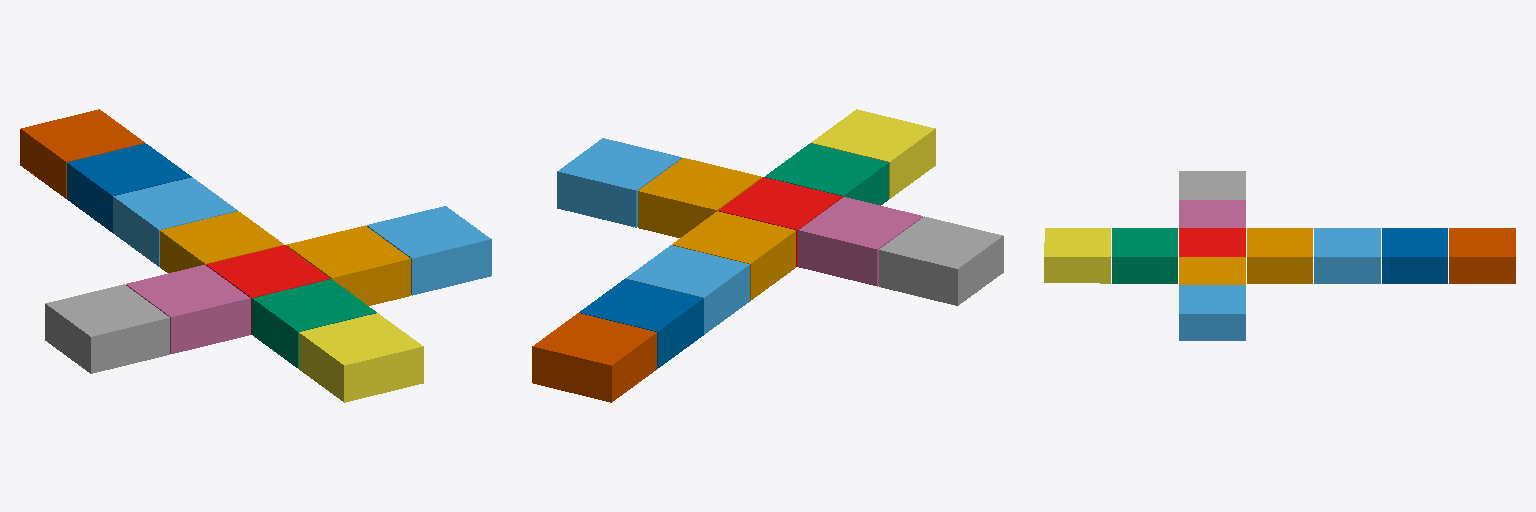
The robot description file, URDF, robot "rob":
<?xml version='1.0' encoding='UTF-8'?>
<robot name="rob">
  <link name="set1_arm1">
    <inertial>
      <origin xyz="0.0 0.34 0.0" rpy="0.0 0.0 0.0"/>
      <mass value="1.0"/>
      <inertia ixx="0.0" ixy="0.0" ixz="0.0" iyy="0.0" iyz="0.0" izz="0.0"/>
    </inertial>
    <visual>
      <geometry>
        <box size="0.67 0.67 0.3 "/>
      </geometry>
      <origin xyz="0.0 0.34 0.0" rpy="0.0 0.0 0.0"/>
    </visual>
    <collision>
      <geometry>
        <box size="0.67 0.67 0.3 "/>
      </geometry>
      <origin xyz="0.0 0.34 0.0" rpy="0.0 0.0 0.0"/>
    </collision>
  </link>
  <link name="set1_arm2">
    <inertial>
      <origin xyz="0.0 0.34 0.0" rpy="0.0 0.0 0.0"/>
      <mass value="1.0"/>
      <inertia ixx="0.0" ixy="0.0" ixz="0.0" iyy="0.0" iyz="0.0" izz="0.0"/>
    </inertial>
    <visual>
      <geometry>
        <box size="0.67 0.67 0.3 "/>
      </geometry>
      <origin xyz="0.0 0.34 0.0" rpy="0.0 0.0 0.0"/>
    </visual>
    <collision>
      <geometry>
        <box size="0.67 0.67 0.3 "/>
      </geometry>
      <origin xyz="0.0 0.34 0.0" rpy="0.0 0.0 0.0"/>
    </collision>
  </link>
  <link name="set2_arm1">
    <inertial>
      <origin xyz="0.0 0.34 0.0" rpy="0.0 0.0 0.0"/>
      <mass value="1.0"/>
      <inertia ixx="0.0" ixy="0.0" ixz="0.0" iyy="0.0" iyz="0.0" izz="0.0"/>
    </inertial>
    <visual>
      <geometry>
        <box size="0.67 0.67 0.3 "/>
      </geometry>
      <origin xyz="0.0 0.34 0.0" rpy="0.0 0.0 0.0"/>
    </visual>
    <collision>
      <geometry>
        <box size="0.67 0.67 0.3 "/>
      </geometry>
      <origin xyz="0.0 0.34 0.0" rpy="0.0 0.0 0.0"/>
    </collision>
  </link>
  <link name="set2_arm2">
    <inertial>
      <origin xyz="0.0 0.34 0.0" rpy="0.0 0.0 0.0"/>
      <mass value="1.0"/>
      <inertia ixx="0.0" ixy="0.0" ixz="0.0" iyy="0.0" iyz="0.0" izz="0.0"/>
    </inertial>
    <visual>
      <geometry>
        <box size="0.67 0.67 0.3 "/>
      </geometry>
      <origin xyz="0.0 0.34 0.0" rpy="0.0 0.0 0.0"/>
    </visual>
    <collision>
      <geometry>
        <box size="0.67 0.67 0.3 "/>
      </geometry>
      <origin xyz="0.0 0.34 0.0" rpy="0.0 0.0 0.0"/>
    </collision>
  </link>
  <link name="set3_arm1">
    <inertial>
      <origin xyz="0.0 0.34 0.0" rpy="0.0 0.0 0.0"/>
      <mass value="1.0"/>
      <inertia ixx="0.0" ixy="0.0" ixz="0.0" iyy="0.0" iyz="0.0" izz="0.0"/>
    </inertial>
    <visual>
      <geometry>
        <box size="0.67 0.67 0.3 "/>
      </geometry>
      <origin xyz="0.0 0.34 0.0" rpy="0.0 0.0 0.0"/>
    </visual>
    <collision>
      <geometry>
        <box size="0.67 0.67 0.3 "/>
      </geometry>
      <origin xyz="0.0 0.34 0.0" rpy="0.0 0.0 0.0"/>
    </collision>
  </link>
  <link name="set3_arm2">
    <inertial>
      <origin xyz="0.0 0.34 0.0" rpy="0.0 0.0 0.0"/>
      <mass value="1.0"/>
      <inertia ixx="0.0" ixy="0.0" ixz="0.0" iyy="0.0" iyz="0.0" izz="0.0"/>
    </inertial>
    <visual>
      <geometry>
        <box size="0.67 0.67 0.3 "/>
      </geometry>
      <origin xyz="0.0 0.34 0.0" rpy="0.0 0.0 0.0"/>
    </visual>
    <collision>
      <geometry>
        <box size="0.67 0.67 0.3 "/>
      </geometry>
      <origin xyz="0.0 0.34 0.0" rpy="0.0 0.0 0.0"/>
    </collision>
  </link>
  <link name="set4_arm1">
    <inertial>
      <origin xyz="0.0 0.34 0.0" rpy="0.0 0.0 0.0"/>
      <mass value="1.0"/>
      <inertia ixx="0.0" ixy="0.0" ixz="0.0" iyy="0.0" iyz="0.0" izz="0.0"/>
    </inertial>
    <visual>
      <geometry>
        <box size="0.67 0.67 0.3 "/>
      </geometry>
      <origin xyz="0.0 0.34 0.0" rpy="0.0 0.0 0.0"/>
    </visual>
    <collision>
      <geometry>
        <box size="0.67 0.67 0.3 "/>
      </geometry>
      <origin xyz="0.0 0.34 0.0" rpy="0.0 0.0 0.0"/>
    </collision>
  </link>
  <link name="set4_arm2">
    <inertial>
      <origin xyz="0.0 0.34 0.0" rpy="0.0 0.0 0.0"/>
      <mass value="1.0"/>
      <inertia ixx="0.0" ixy="0.0" ixz="0.0" iyy="0.0" iyz="0.0" izz="0.0"/>
    </inertial>
    <visual>
      <geometry>
        <box size="0.67 0.67 0.3 "/>
      </geometry>
      <origin xyz="0.0 0.34 0.0" rpy="0.0 0.0 0.0"/>
    </visual>
    <collision>
      <geometry>
        <box size="0.67 0.67 0.3 "/>
      </geometry>
      <origin xyz="0.0 0.34 0.0" rpy="0.0 0.0 0.0"/>
    </collision>
  </link>
  <link name="set5_arm1">
    <inertial>
      <origin xyz="0.0 0.34 0.0" rpy="0.0 0.0 0.0"/>
      <mass value="1.0"/>
      <inertia ixx="0.0" ixy="0.0" ixz="0.0" iyy="0.0" iyz="0.0" izz="0.0"/>
    </inertial>
    <visual>
      <geometry>
        <box size="0.67 0.67 0.3 "/>
      </geometry>
      <origin xyz="0.0 0.34 0.0" rpy="0.0 0.0 0.0"/>
    </visual>
    <collision>
      <geometry>
        <box size="0.67 0.67 0.3 "/>
      </geometry>
      <origin xyz="0.0 0.34 0.0" rpy="0.0 0.0 0.0"/>
    </collision>
  </link>
  <link name="set5_arm2">
    <inertial>
      <origin xyz="0.0 0.34 0.0" rpy="0.0 0.0 0.0"/>
      <mass value="1.0"/>
      <inertia ixx="0.0" ixy="0.0" ixz="0.0" iyy="0.0" iyz="0.0" izz="0.0"/>
    </inertial>
    <visual>
      <geometry>
        <box size="0.67 0.67 0.3 "/>
      </geometry>
      <origin xyz="0.0 0.34 0.0" rpy="0.0 0.0 0.0"/>
    </visual>
    <collision>
      <geometry>
        <box size="0.67 0.67 0.3 "/>
      </geometry>
      <origin xyz="0.0 0.34 0.0" rpy="0.0 0.0 0.0"/>
    </collision>
  </link>
  <link name="base_link">
    <inertial>
      <origin xyz="0.0 0.0 0.0" rpy="0.0 -0.0 0.0"/>
      <mass value="1.0"/>
      <inertia ixx="1.0" ixy="0.0" ixz="0.0" iyy="1.0" iyz="0.0" izz="1.0"/>
    </inertial>
    <visual>
      <geometry>
        <box size="0.67 0.67 0.3 "/>
      </geometry>
      <material name="red"/>
      <origin xyz="0.0 0.0 0.0" rpy="0.0 -0.0 0.0"/>
    </visual>
    <collision>
      <geometry>
        <box size="0.67 0.67 0.3 "/>
      </geometry>
      <origin xyz="0.0 0.0 0.0" rpy="0.0 0.0 0.0"/>
    </collision>
  </link>
  <joint name="set1_jointBase" type="fixed">
    <limit effort="1.57" velocity="1.57" lower="-1.57" upper="1.57"/>
    <parent link="base_link"/>
    <child link="set1_arm1"/>
    <axis xyz="1. 0. 0."/>
    <origin xyz="0.0 0.34 0.0" rpy="0.0 0.0 0.0"/>
  </joint>
  <joint name="set1_joint1" type="revolute">
    <limit effort="1.57" velocity="1.57" lower="-1.57" upper="1.57"/>
    <parent link="set1_arm1"/>
    <child link="set1_arm2"/>
    <axis xyz="1. 0. 0."/>
    <origin xyz="0.0 0.68 0.0" rpy="0.0 0.0 0.0"/>
  </joint>
  <joint name="set2_jointBase" type="fixed">
    <limit effort="1.57" velocity="1.57" lower="-1.57" upper="1.57"/>
    <parent link="base_link"/>
    <child link="set2_arm1"/>
    <axis xyz="1. 0. 0."/>
    <origin xyz="0.0 -0.34 0.0" rpy="0.0 0.0 3.141"/>
  </joint>
  <joint name="set2_joint1" type="revolute">
    <limit effort="1.57" velocity="1.57" lower="-1.57" upper="1.57"/>
    <parent link="set2_arm1"/>
    <child link="set2_arm2"/>
    <axis xyz="1. 0. 0."/>
    <origin xyz="0.0 0.68 0.0" rpy="0.0 0.0 0.0"/>
  </joint>
  <joint name="set3_jointBase" type="fixed">
    <limit effort="1.57" velocity="1.57" lower="-1.57" upper="1.57"/>
    <parent link="set1_arm2"/>
    <child link="set3_arm1"/>
    <axis xyz="1. 0. 0."/>
    <origin xyz="0.0 0.68 0.0" rpy="0.0 0.0 0.0"/>
  </joint>
  <joint name="set3_joint1" type="revolute">
    <limit effort="1.57" velocity="1.57" lower="-1.57" upper="1.57"/>
    <parent link="set3_arm1"/>
    <child link="set3_arm2"/>
    <axis xyz="1. 0. 0."/>
    <origin xyz="0.0 0.68 0.0" rpy="0.0 0.0 0.0"/>
  </joint>
  <joint name="set4_jointBase" type="fixed">
    <limit effort="1.57" velocity="1.57" lower="-1.57" upper="1.57"/>
    <parent link="base_link"/>
    <child link="set4_arm1"/>
    <axis xyz="1. 0. 0."/>
    <origin xyz="-0.34 0.0 0.0" rpy="0.0 0.0 1.57"/>
  </joint>
  <joint name="set4_joint1" type="revolute">
    <limit effort="1.57" velocity="1.57" lower="-1.57" upper="1.57"/>
    <parent link="set4_arm1"/>
    <child link="set4_arm2"/>
    <axis xyz="1. 0. 0."/>
    <origin xyz="0.0 0.68 0.0" rpy="0.0 0.0 0.0"/>
  </joint>
  <joint name="set5_jointBase" type="fixed">
    <limit effort="1.57" velocity="1.57" lower="-1.57" upper="1.57"/>
    <parent link="base_link"/>
    <child link="set5_arm1"/>
    <axis xyz="1. 0. 0."/>
    <origin xyz="0.34 0.0 0.0" rpy="0.0 0.0 -1.57"/>
  </joint>
  <joint name="set5_joint1" type="revolute">
    <limit effort="1.57" velocity="1.57" lower="-1.57" upper="1.57"/>
    <parent link="set5_arm1"/>
    <child link="set5_arm2"/>
    <axis xyz="1. 0. 0."/>
    <origin xyz="0.0 0.68 0.0" rpy="0.0 0.0 0.0"/>
  </joint>
  <material name="red">
    <color rgba="0.969 0.129 0.122 1.   "/>
  </material>
</robot>

--- Render facts (derived) ---
Views: 3 orthographic renders of the robot side by side, from view 1: azimuth 30°, elevation 25°; view 2: azimuth 150°, elevation 25°; view 3: azimuth 270°, elevation 25°.
Robot: rob — 11 links, 10 joints (5 revolute, 5 fixed); root link base_link; default pose: every joint at zero.
Visible links, largest first — view 1: set4_arm2, set2_arm2, set5_arm2, set4_arm1, set5_arm1, set1_arm2, set3_arm2, set2_arm1, set3_arm1, set1_arm1, base_link; view 2: set3_arm2, set4_arm2, set5_arm2, set4_arm1, set5_arm1, set2_arm2, set3_arm1, set1_arm2, set1_arm1, set2_arm1, base_link; view 3: set1_arm2, set3_arm2, set5_arm2, set1_arm1, set2_arm1, set3_arm1, set2_arm2, set4_arm2, base_link, set4_arm1, set5_arm1.
Link boxes in pixels (x1,y1,x2,y2): set4_arm2: (45,284,169,373); set2_arm2: (299,313,423,402); set5_arm2: (367,206,491,295); set4_arm1: (126,265,250,353); set5_arm1: (286,225,410,305); set1_arm2: (113,177,237,266); set3_arm2: (20,109,144,198); set2_arm1: (252,279,376,368); set3_arm1: (67,143,191,232); set1_arm1: (160,211,283,272); base_link: (206,245,330,334); set3_arm2: (532,313,656,402); set4_arm2: (879,216,1003,305); set5_arm2: (557,138,681,227); set4_arm1: (798,197,922,286); set5_arm1: (638,158,762,237); set2_arm2: (811,109,935,198); set3_arm1: (579,279,703,368); set1_arm2: (625,245,749,334); set1_arm1: (672,211,795,300); set2_arm1: (765,143,888,205); base_link: (718,177,842,266); set1_arm2: (1314,228,1380,283); set3_arm2: (1449,228,1515,283); set5_arm2: (1179,285,1245,340); set1_arm1: (1247,228,1312,283); set2_arm1: (1112,228,1177,283); set3_arm1: (1382,228,1447,283); set2_arm2: (1044,228,1110,283); set4_arm2: (1179,171,1245,199); base_link: (1179,228,1245,256); set4_arm1: (1179,200,1245,227); set5_arm1: (1179,257,1245,284).
Bounding box of the posed robot: 3.39 × 4.75 × 0.3 m (x, y, z).
Geometry: primitives only (box / cylinder / sphere), no mesh files.
